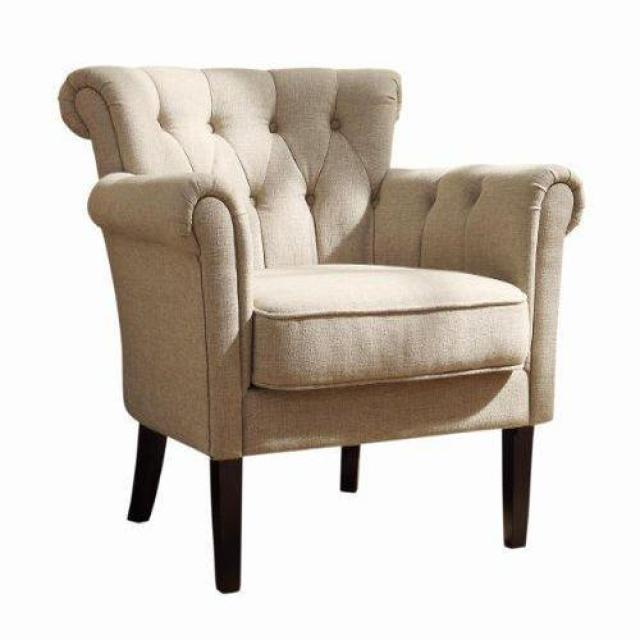chair: (59, 67, 584, 595)
